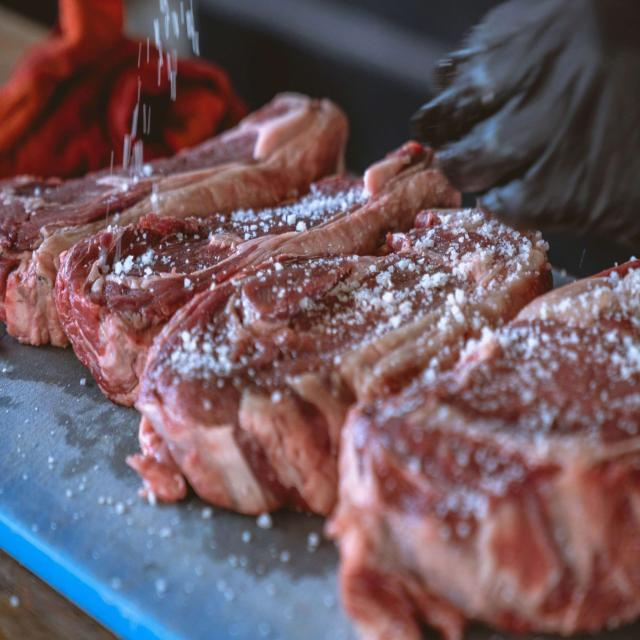carne de res: (132, 217, 554, 528)
